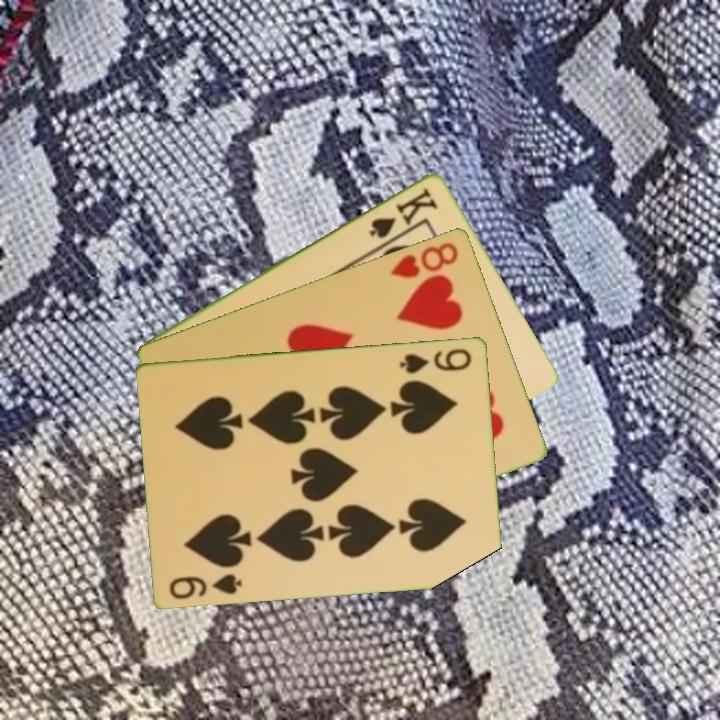8h: (387, 238, 462, 281)
9s: (166, 570, 246, 602), (396, 345, 474, 376)
Ks: (365, 182, 441, 241)
